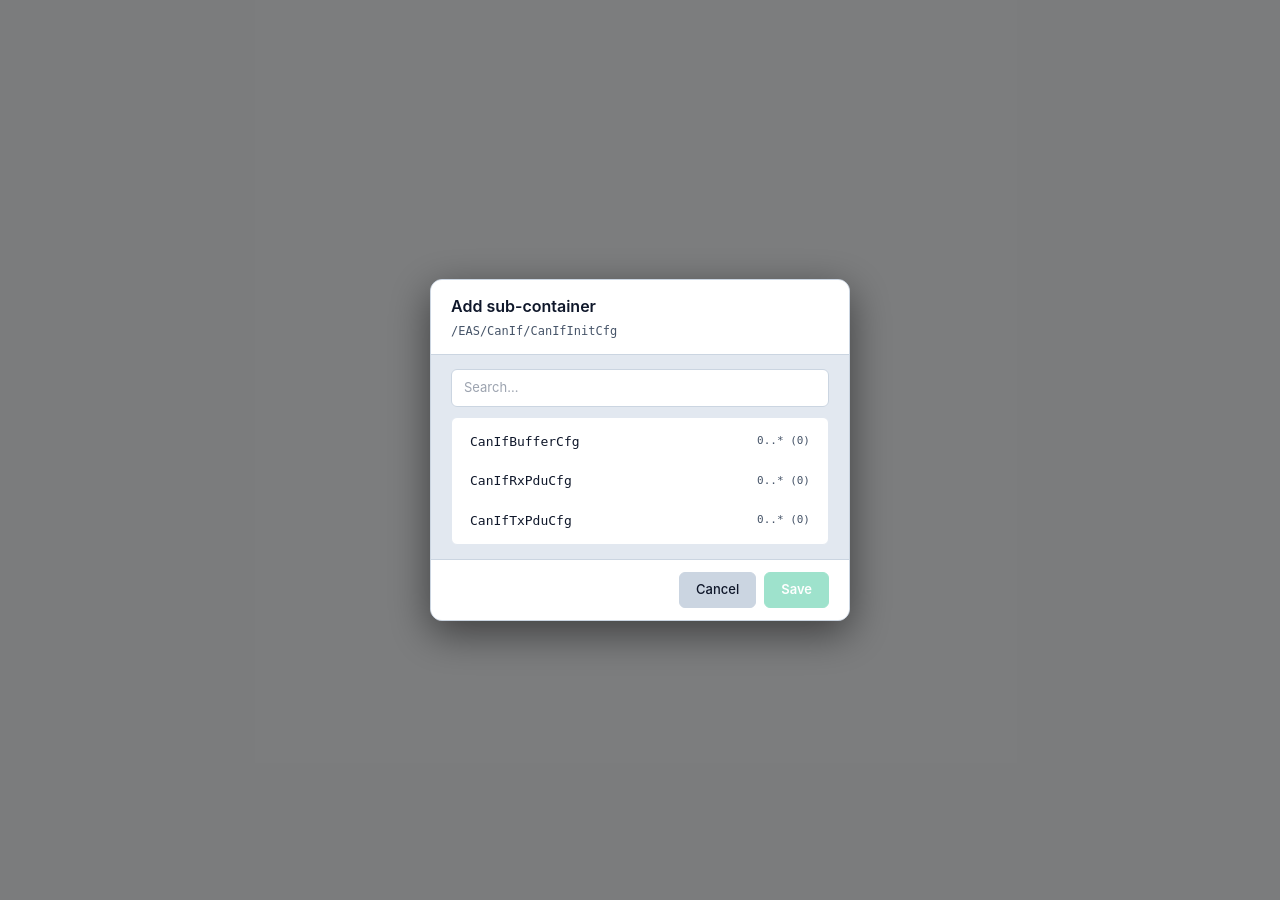
Test: BswmdPickerDialog (Sprint 15 / Phase 3.2) › search input filters the list (case-insensitive substring on shortName)
Note: Type "rx" — should leave only CanIfRxPduCfg.
Type "rx" into the field with test id "bspd-search". click: (640, 388)
box: [451,369,829,407]
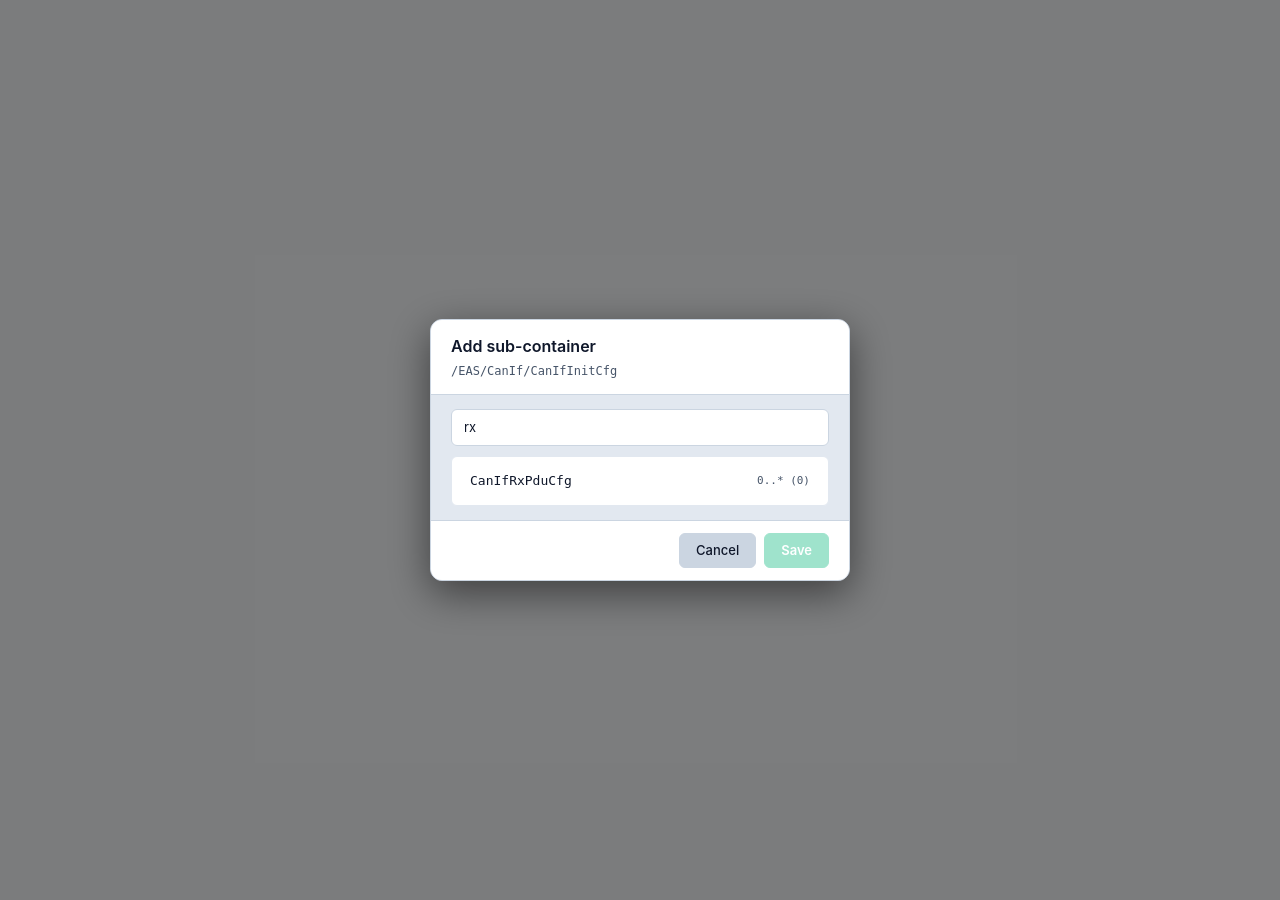
Expected: the option with test id "bspd-row-CanIfRxPduCfg" is shown, [470,473,810,488]
Now the option with test id "bspd-row-CanIfBufferCfg" is gone
Now the option with test id "bspd-row-CanIfTxPduCfg" is gone
Note: Type "Rx" (uppercase R) — same hit, case-insensitive.
Replace the text in the field with test id "bspd-search" with "Rx". click: (640, 428)
box: [451,409,829,446]
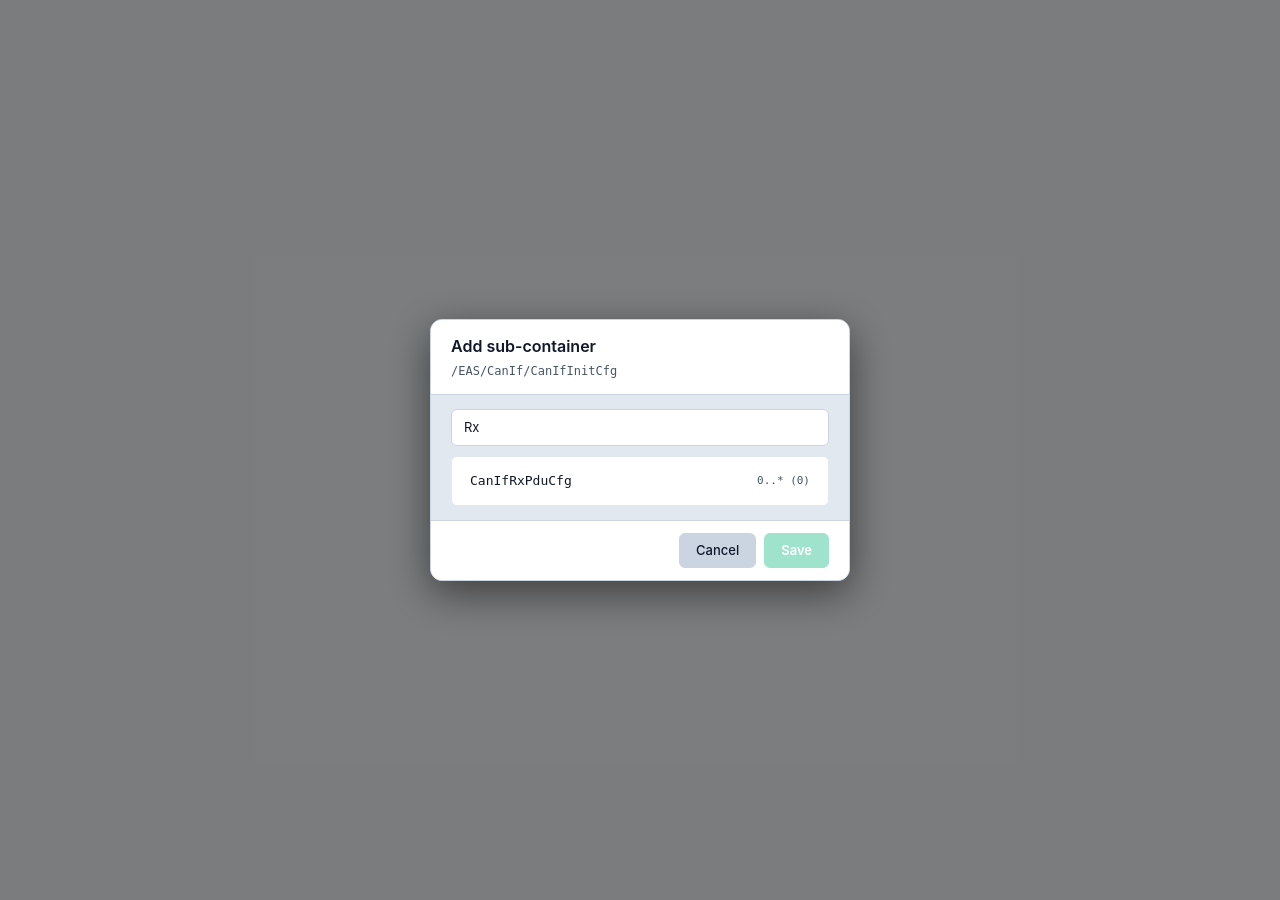
Expected: the option with test id "bspd-row-CanIfRxPduCfg" is shown, [470,473,810,488]
Note: Type something that doesn't match — empty result, no rows.
Replace the text in the field with test id "bspd-search" with "nomatch-zzz". click: (640, 428)
box: [451,409,829,446]
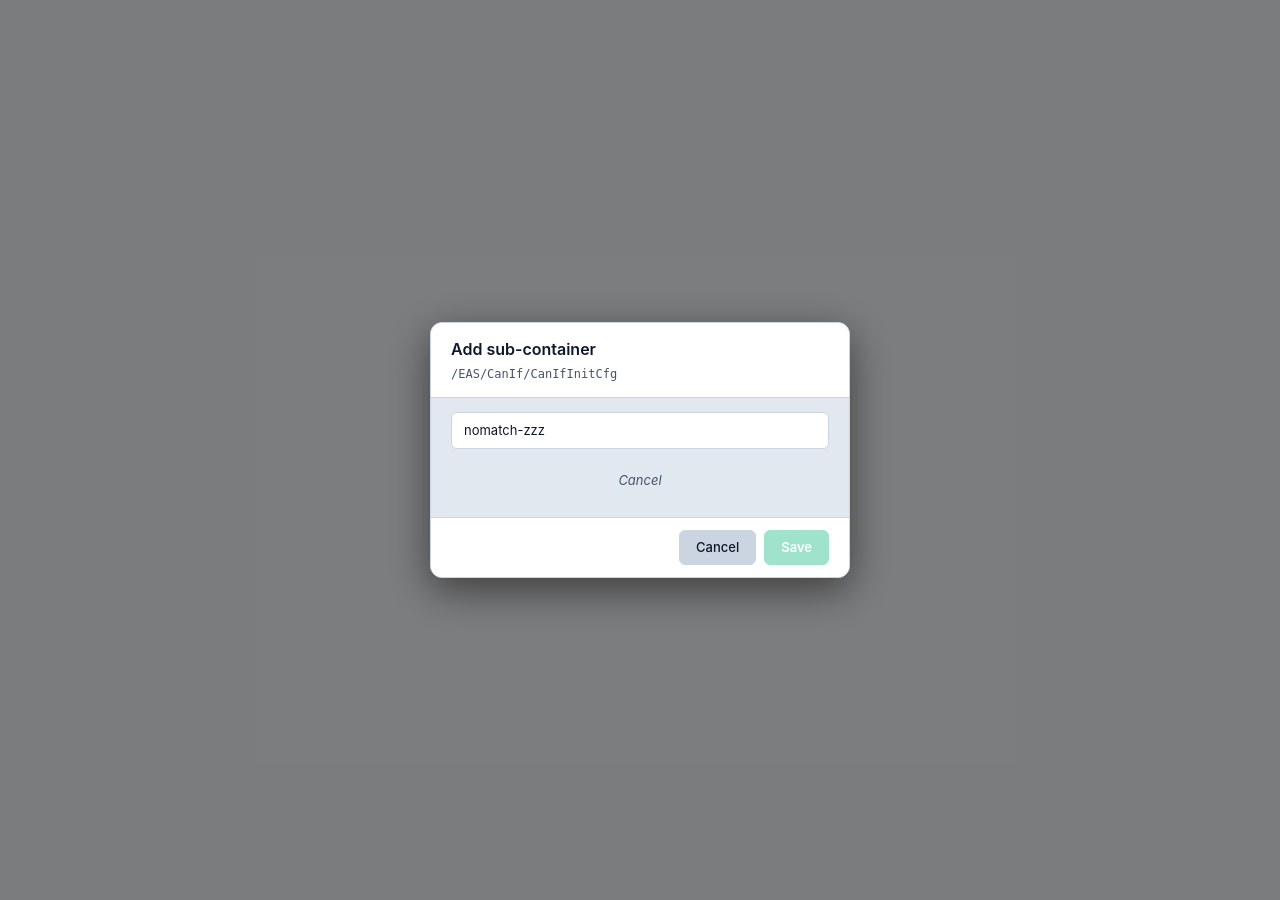
Now the option with test id "bspd-row-CanIfRxPduCfg" is gone
